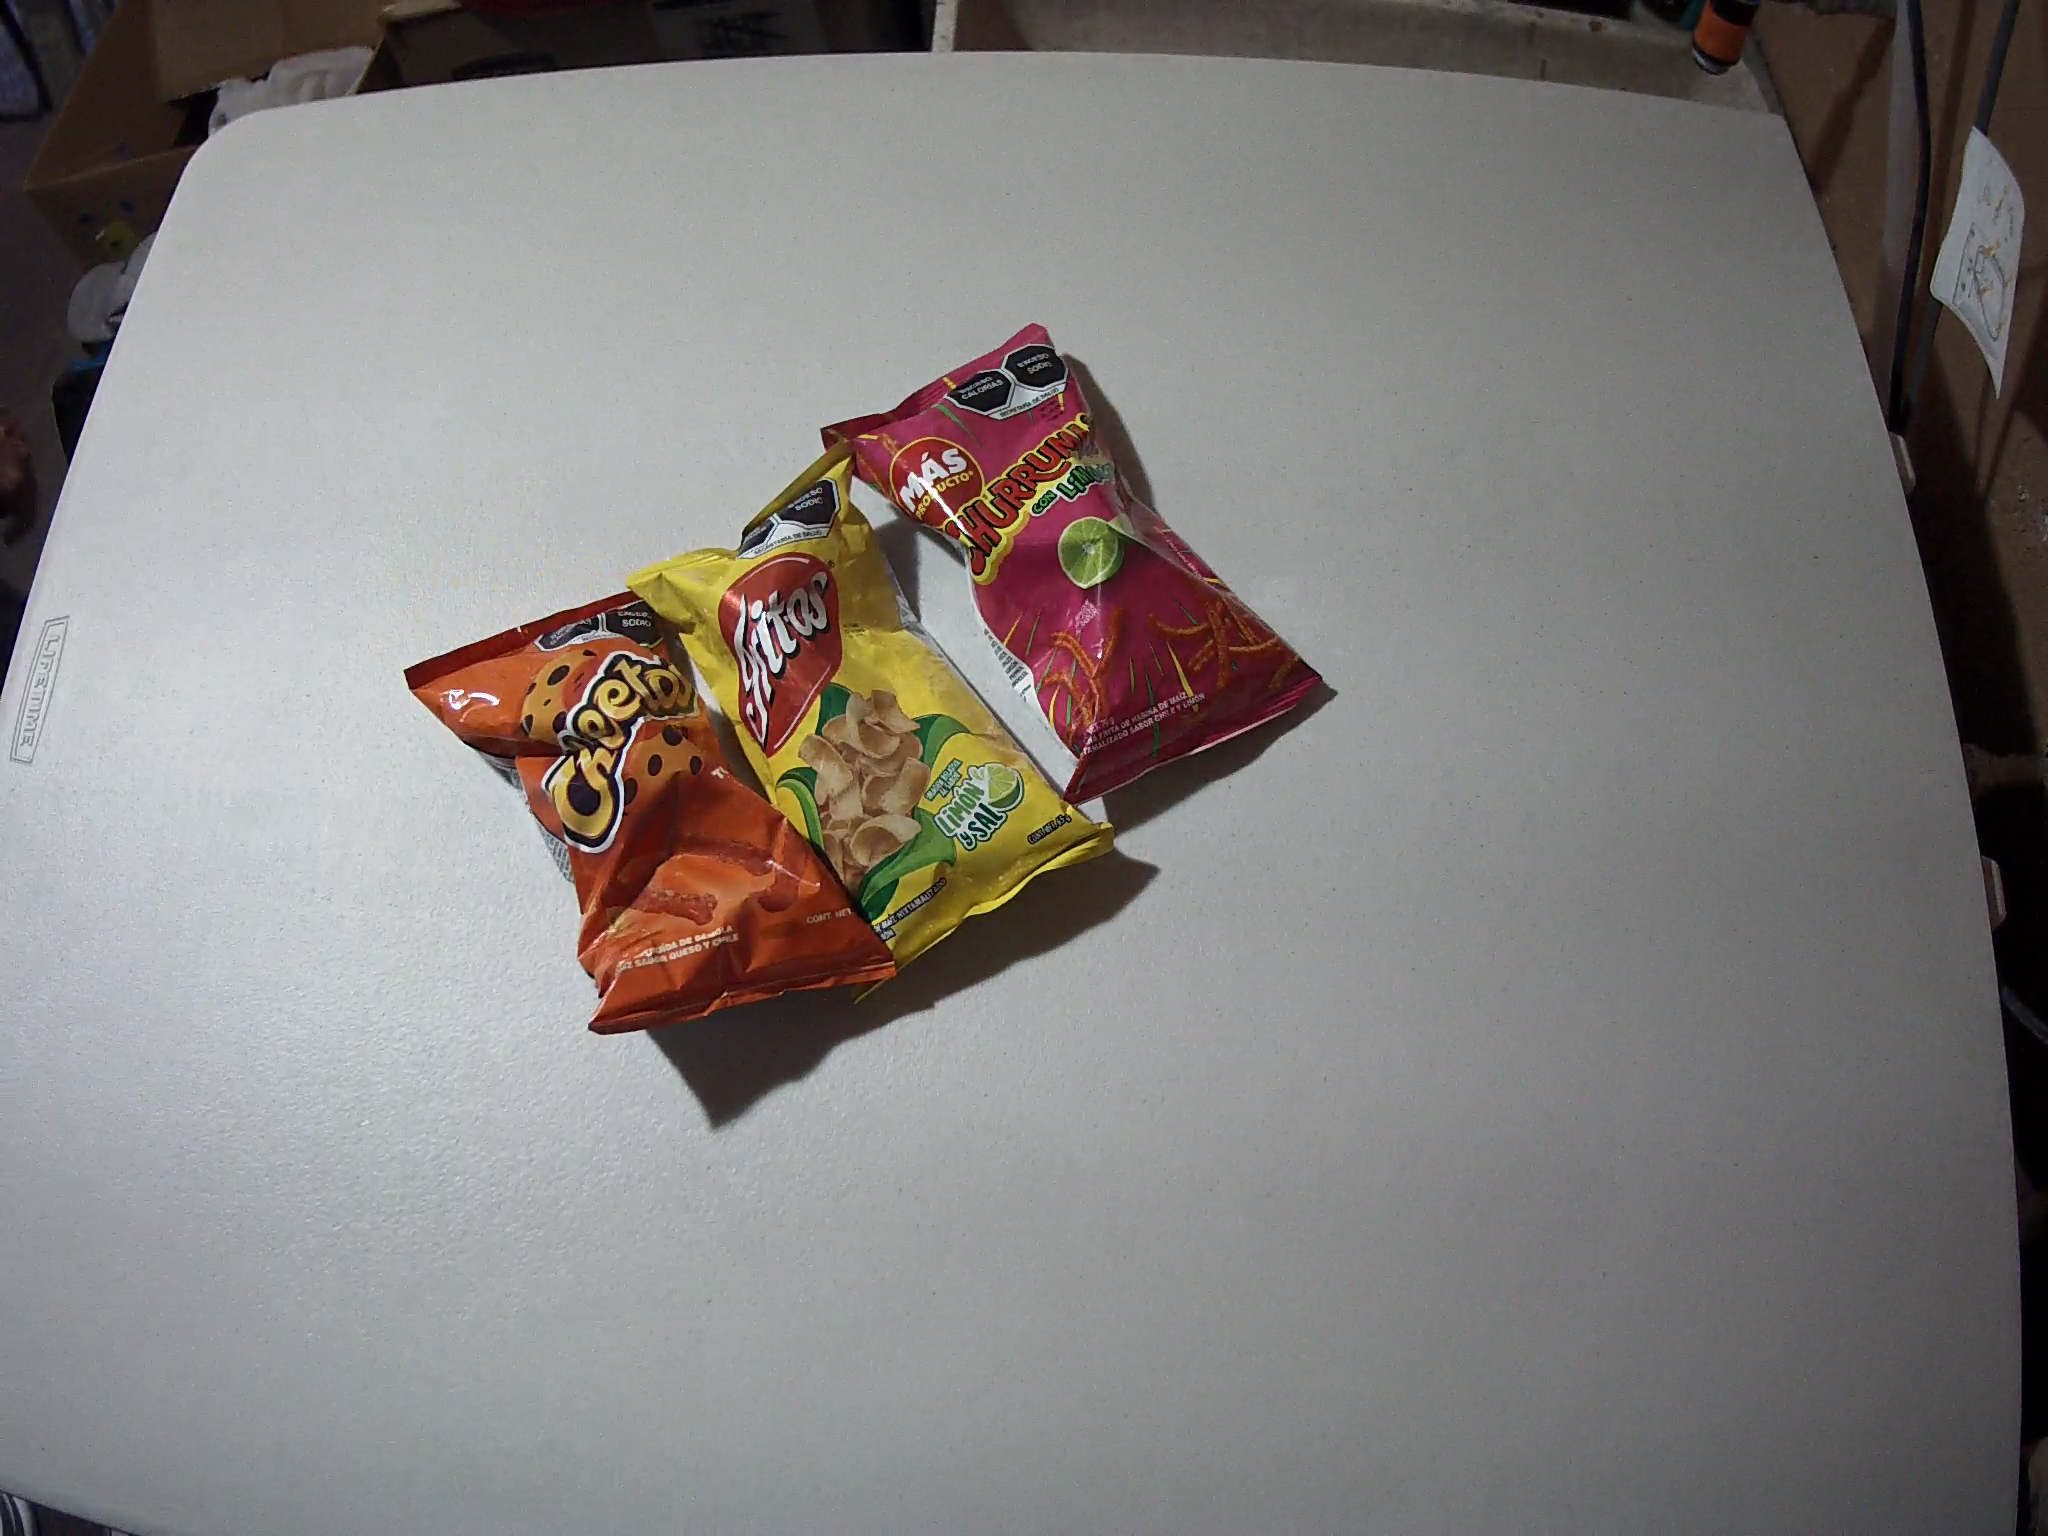CheetosTorciditos_55_F: (406, 582, 900, 1034)
Churrumais_70_F: (819, 323, 1322, 808)
FritosSalLimon_65_F: (624, 437, 1116, 1008)
